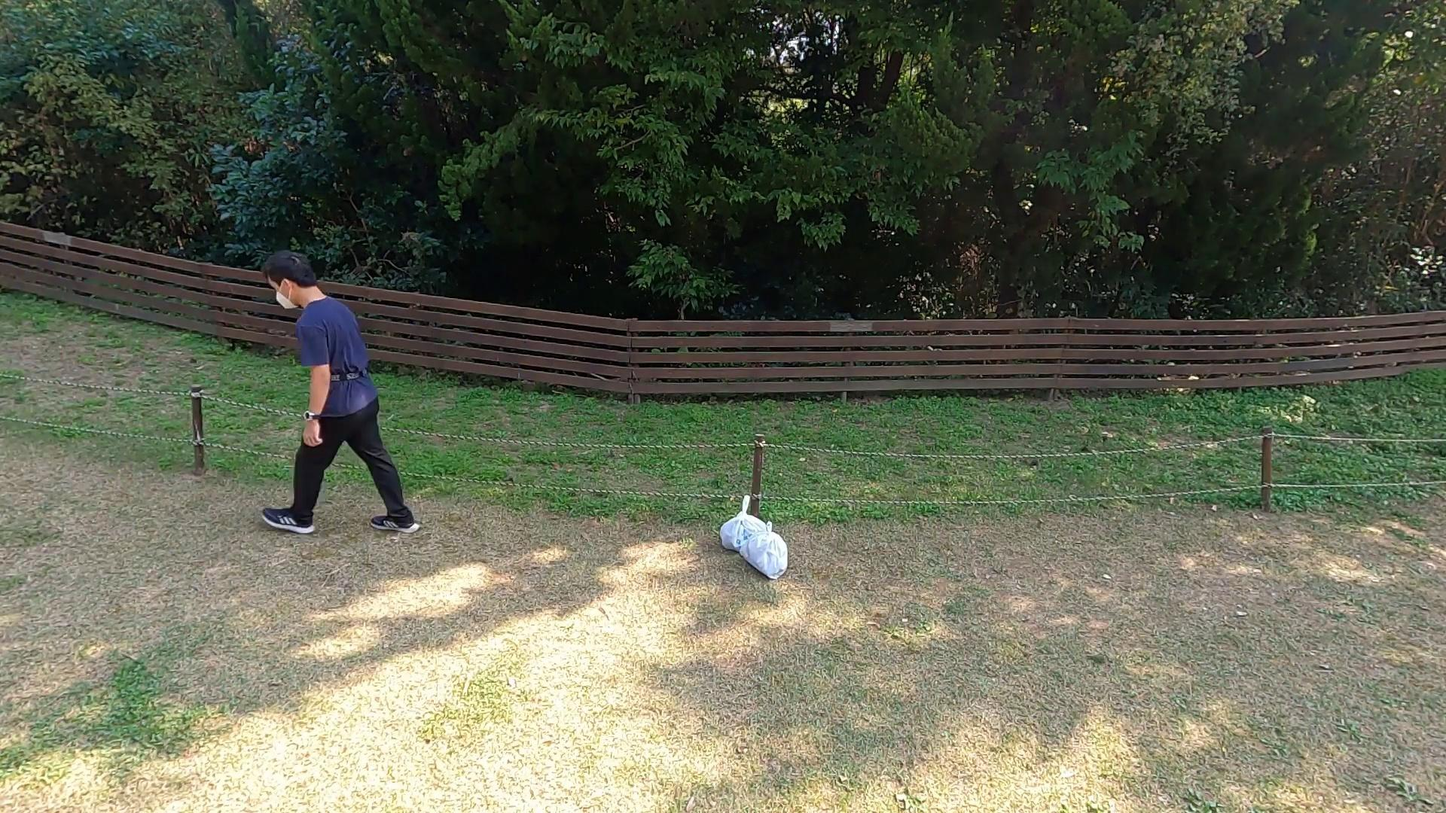person: (256, 247, 422, 540)
trash: (739, 519, 790, 581), (718, 494, 771, 553)
